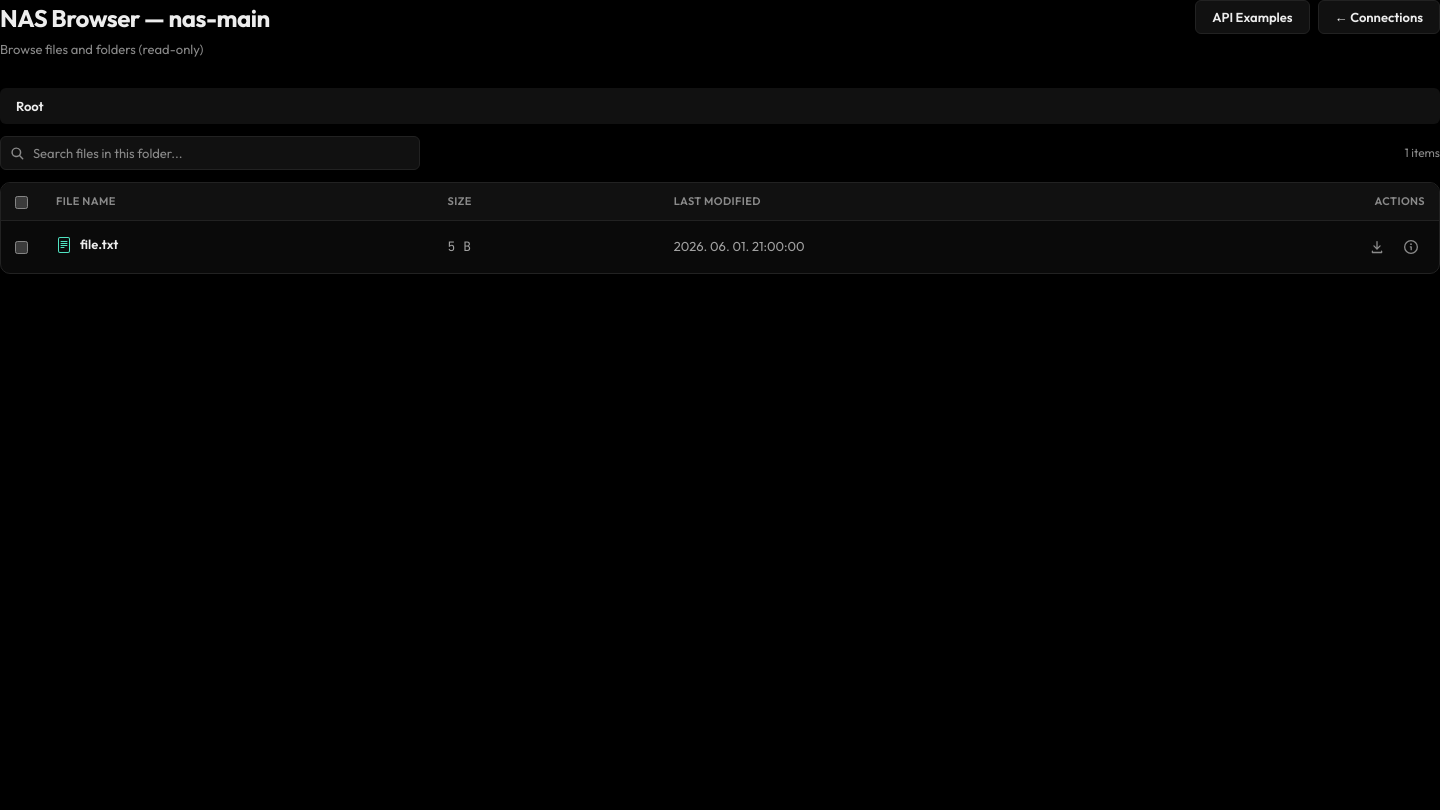
Test case: NasBrowser page › opens the metadata modal on metadata click
Expected: the button "file.txt" is shown, [56,235,118,254]
What coordinates should you click on to do the following:
click the button named "Show metadata for file.txt"
I would click on:
 (1411, 246)
Its box is [1397,232,1425,260].
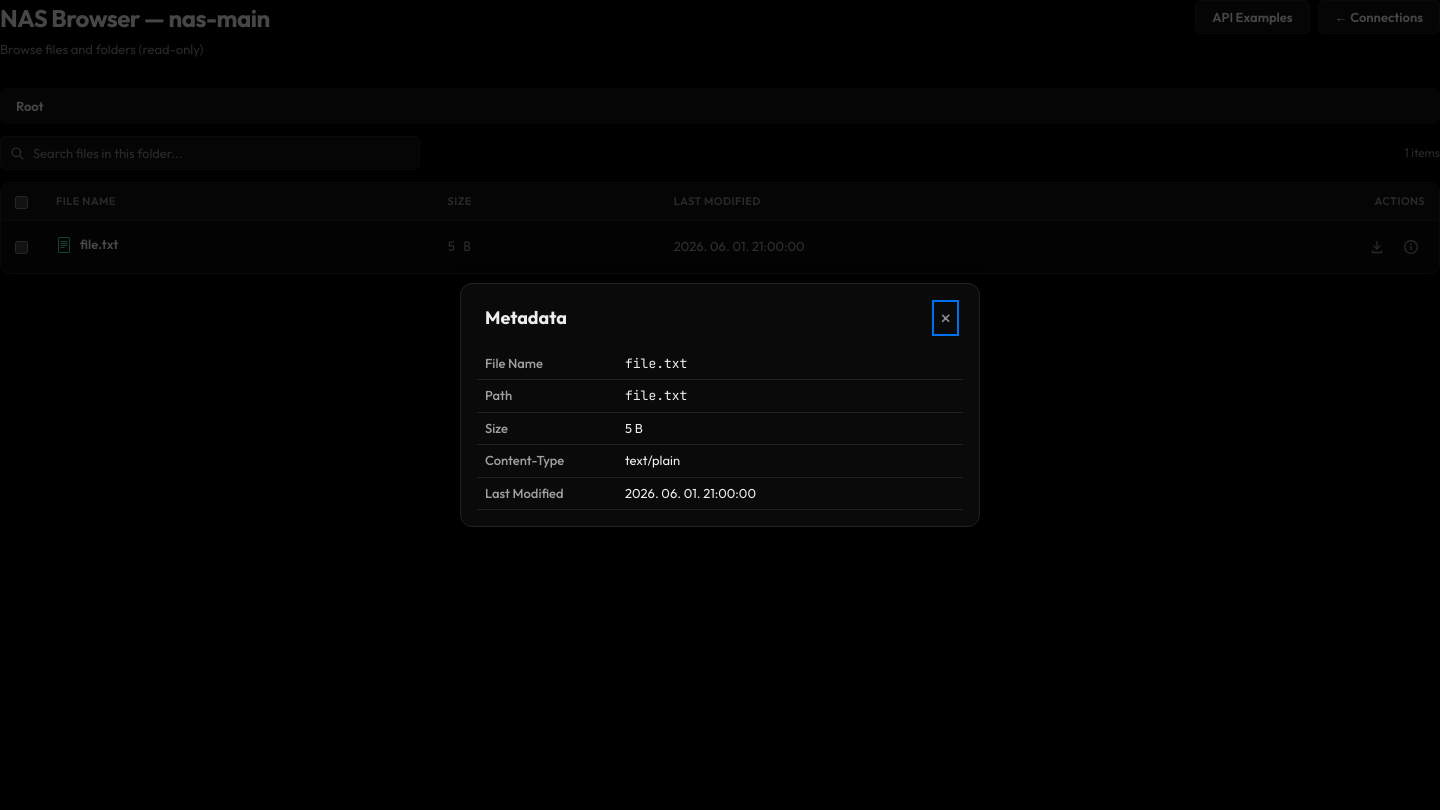
Expected: the text "text/plain" is shown, [617,445,963,477]
